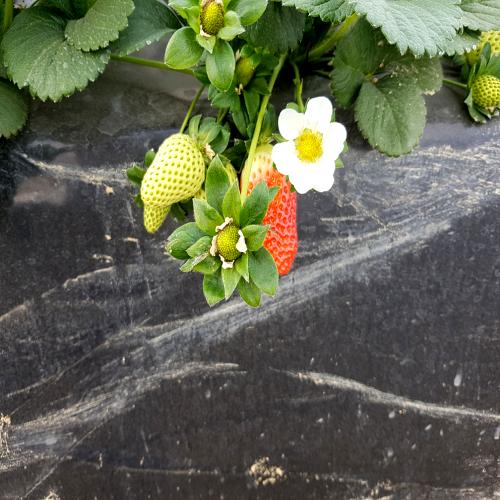ripe: (244, 143, 299, 274)
unripe: (142, 127, 206, 210)
